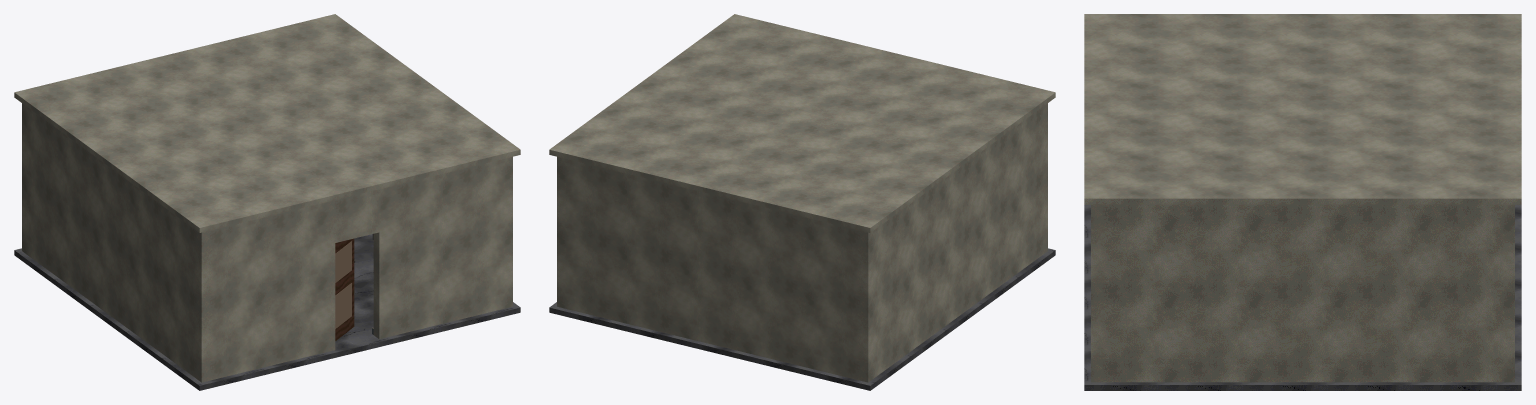
Rendered from arquivos.glb.
3 renders of one model, left to right at view 1: azimuth 30°, elevation 25°; view 2: azimuth 150°, elevation 25°; view 3: azimuth 270°, elevation 25°, orthographic. The views are drawn at different scales.
Visible parts, largest first — view 1: plaster-col, concrete-col, flat.030, wood_dark; view 2: plaster-col, concrete-col; view 3: plaster-col, concrete-col.
Part boxes in pixels (x1,y1,x2,y2): plaster-col: (14,14,520,382); concrete-col: (14,234,520,390); flat.030: (335,241,351,328); wood_dark: (335,238,354,340); plaster-col: (549,14,1055,382); concrete-col: (549,248,1055,390); plaster-col: (1084,14,1521,382); concrete-col: (1084,204,1521,390).
Bounding box in the file's own units: 6.6 × 3.2 × 6.6.
Materials: 48 (16 with a texture image).
